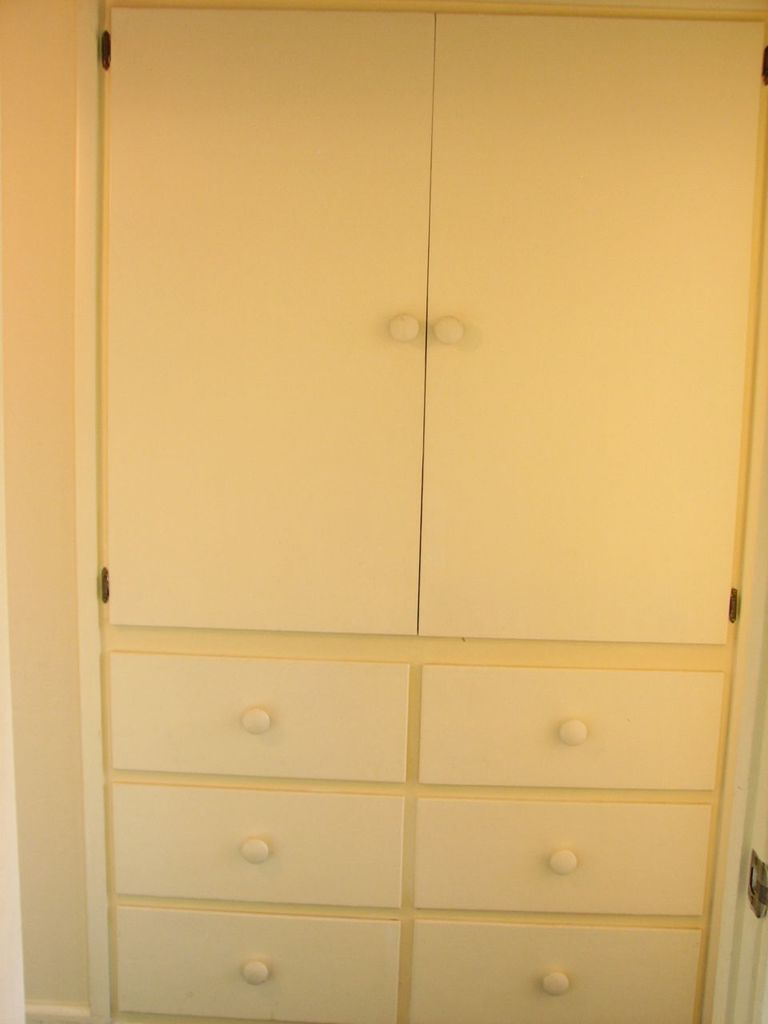cabinet door: (115, 23, 413, 619), (441, 40, 719, 643), (430, 664, 715, 791), (114, 656, 403, 781), (127, 795, 401, 899), (434, 916, 688, 1024), (441, 814, 700, 917), (138, 920, 394, 1024)
handle: (539, 951, 574, 1011), (386, 290, 418, 354), (556, 697, 589, 759), (243, 700, 275, 757), (429, 300, 461, 356), (241, 953, 274, 1000), (553, 831, 577, 883), (242, 831, 268, 875)
